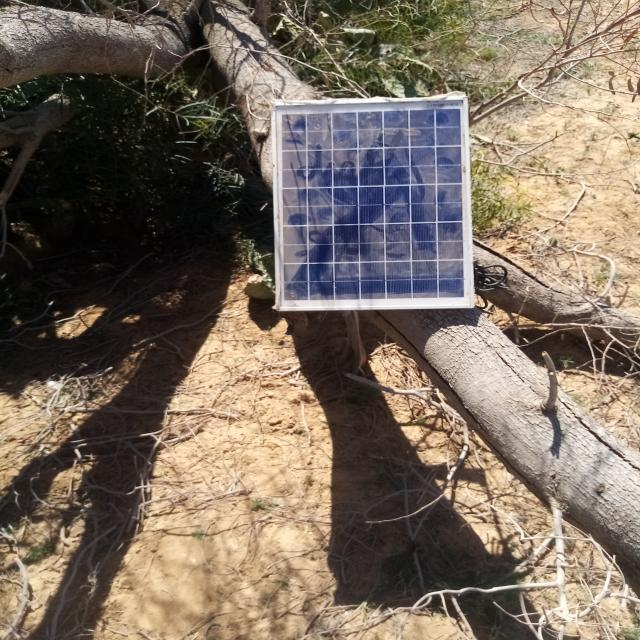faulty: (273, 98, 473, 309)
